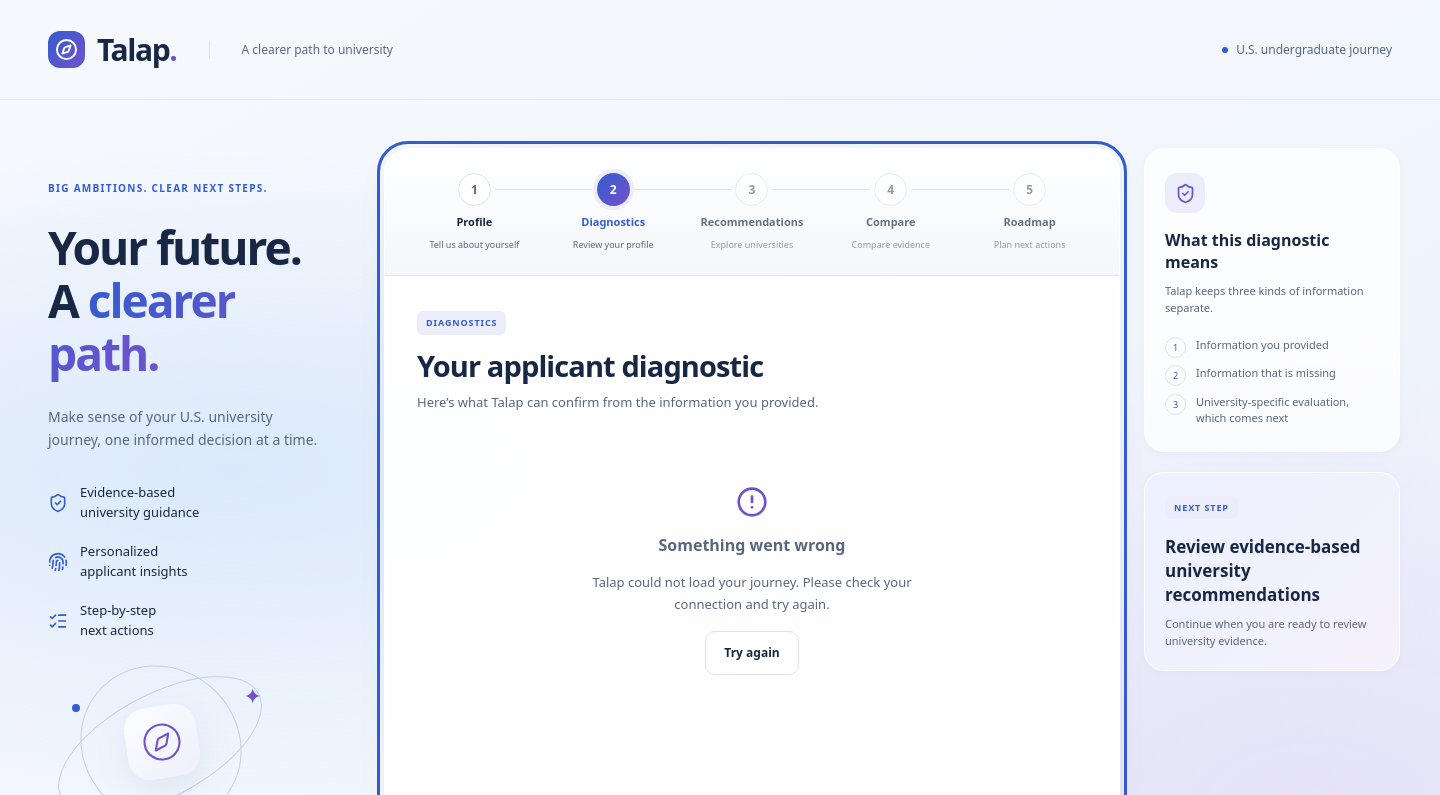
Test: Diagnostics journey experience › shows a safe retry state and requests the journey again
The width and height of the screenshot is (1440, 795).
Check: the message shows "could not load your journey", box [592,573,912,612]
Click the button "Try again".
click(752, 653)  # box [705,631,799,675]
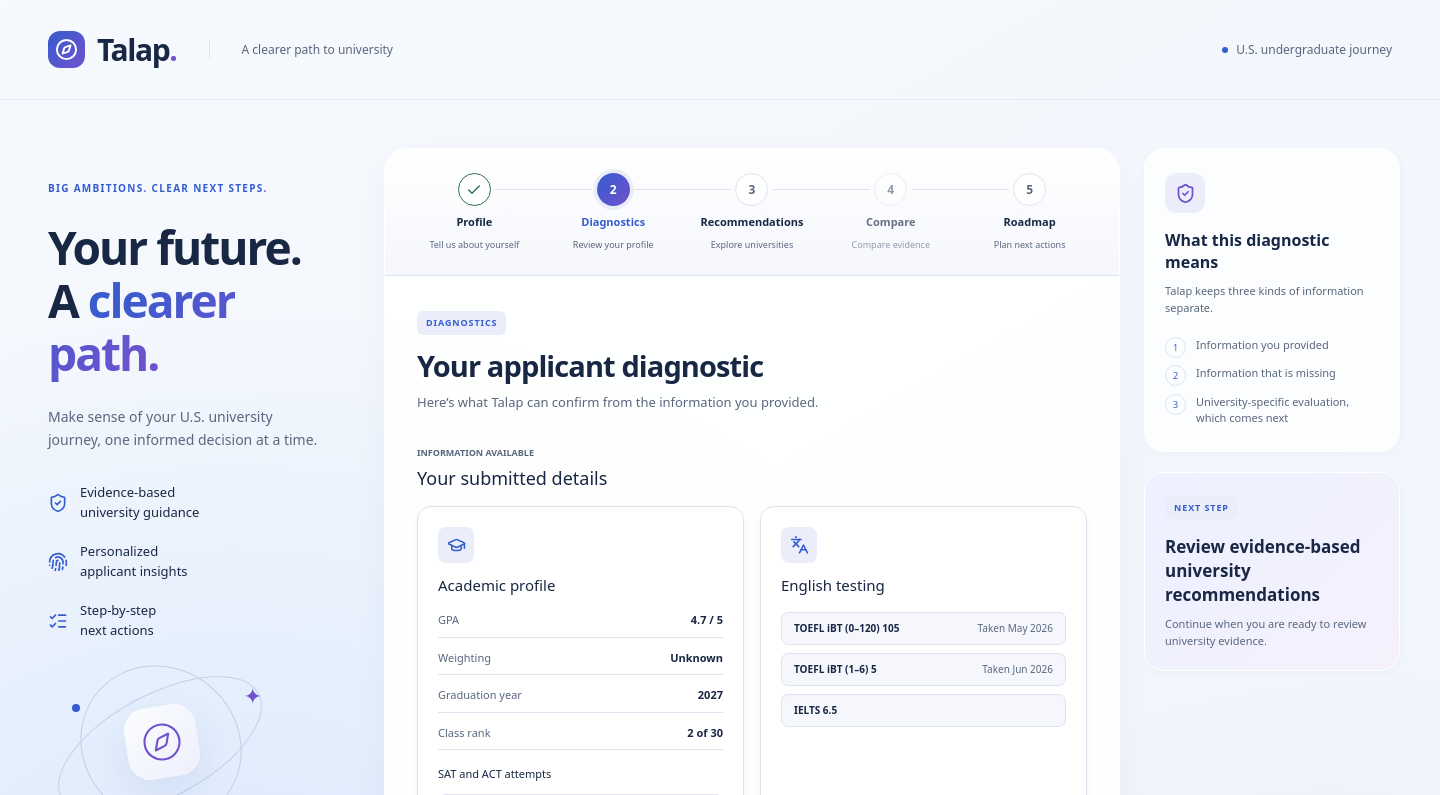
Check: the heading "Your submitted details" is shown, box [417,466,607,490]
